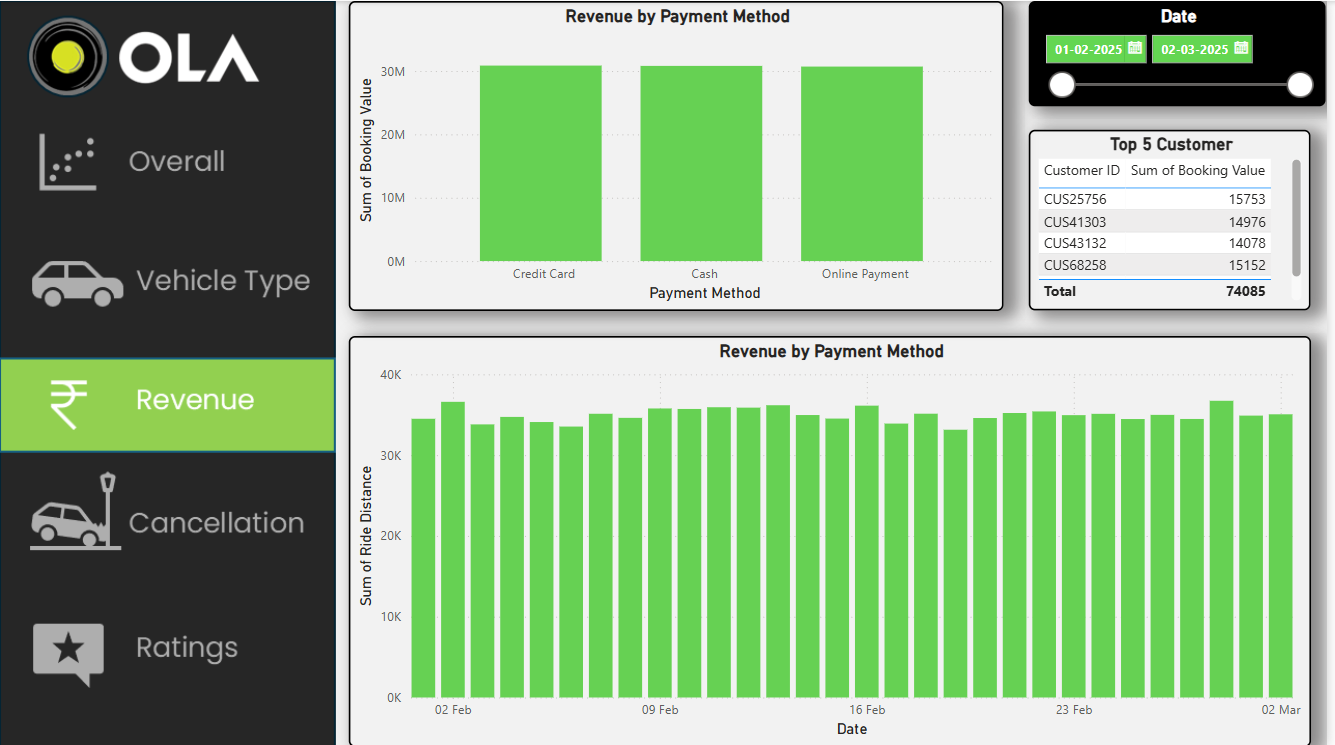

Layout of this report page (visuals, bound fields, positions):
{"tool":"powerbi","page":{"name":"Revenue","canvas":[1280,720],"ordinal":2},"visuals":[{"type":"columnChart","title":"Revenue by Payment Method","fields":{"Y":["Sum(Sheet1.Booking Value)"],"Category":["Sheet1.Payment Method"]},"box":[336.4,0,631.8,299],"z":0},{"type":"columnChart","title":"Revenue by Payment Method","fields":{"Y":["Sum(Sheet1.Ride Distance)"],"Category":["Sheet1.Date"]},"box":[336.4,323.9,929,396.9],"z":1000},{"type":"slicer","title":"Date","fields":{"Values":["Sheet1.Date"]},"box":[993.1,0,286.5,101.4],"z":2000},{"type":"tableEx","title":"Top 5 Customer","fields":{"Values":["Sheet1.Customer ID","Sum(Sheet1.Booking Value)"]},"box":[993.1,124.6,272.3,174.4],"z":3000}]}

Visuals, with their boxes in screenshot pixels (x1, y1, x2, y2):
"Revenue by Payment Method" columnChart: <bbox>335, 0, 1002, 309</bbox>
"Revenue by Payment Method" columnChart: <bbox>335, 335, 1316, 744</bbox>
"Date" slicer: <bbox>1028, 0, 1331, 100</bbox>
"Top 5 Customer" tableEx: <bbox>1028, 125, 1316, 309</bbox>
